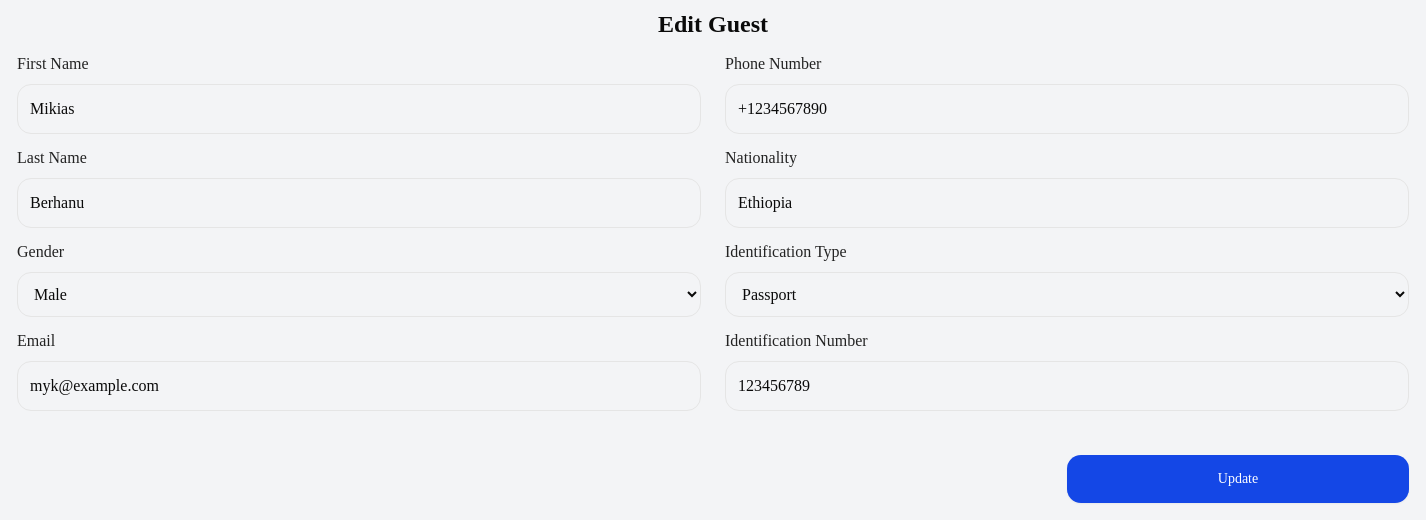
Test: EditGuest Component › validates email format
Replace the text in the field labelled "Email" with "x@example": (359,386) [17, 361, 701, 411]
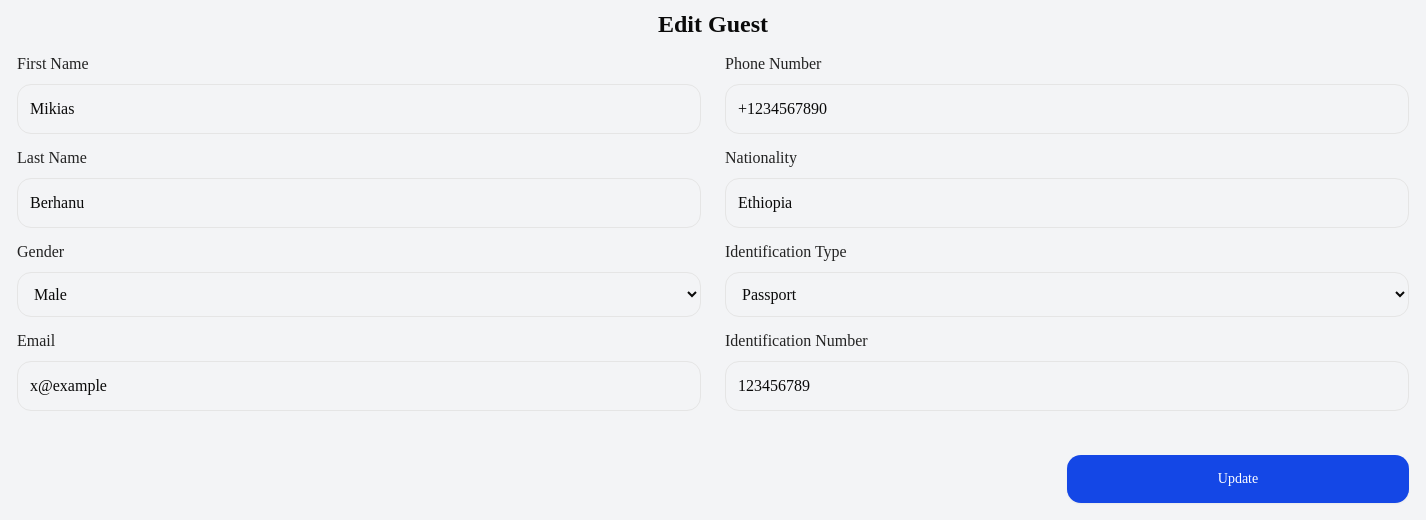
Click the button "Update": (1238,479) [1067, 455, 1409, 503]
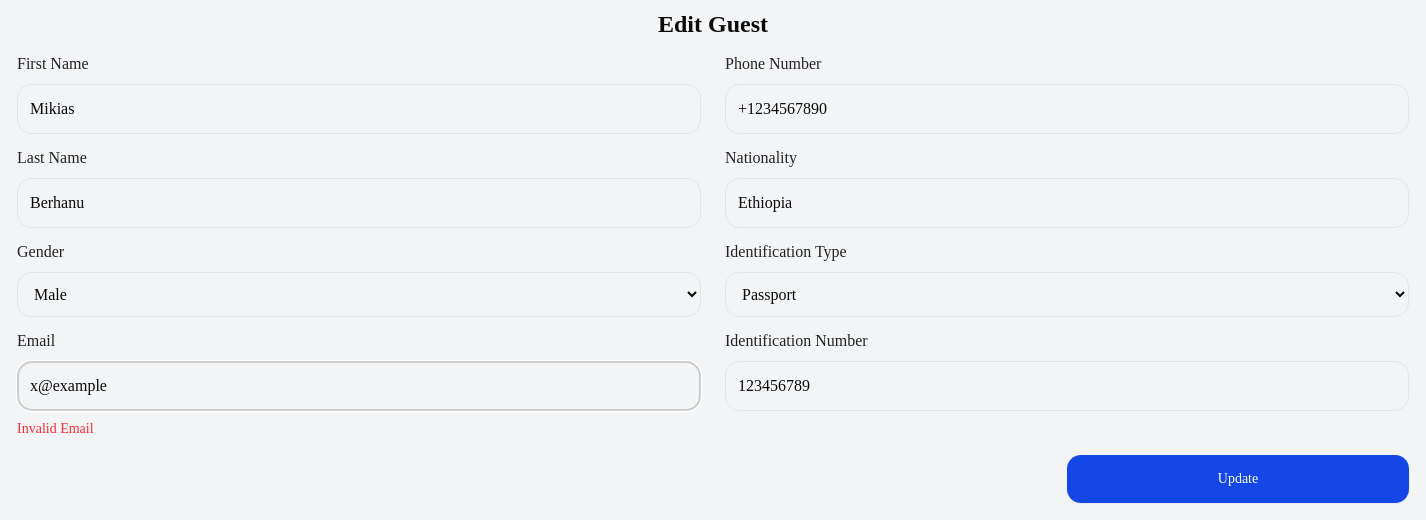
Expected: the text "Invalid Email" is shown, [17, 419, 94, 439]
